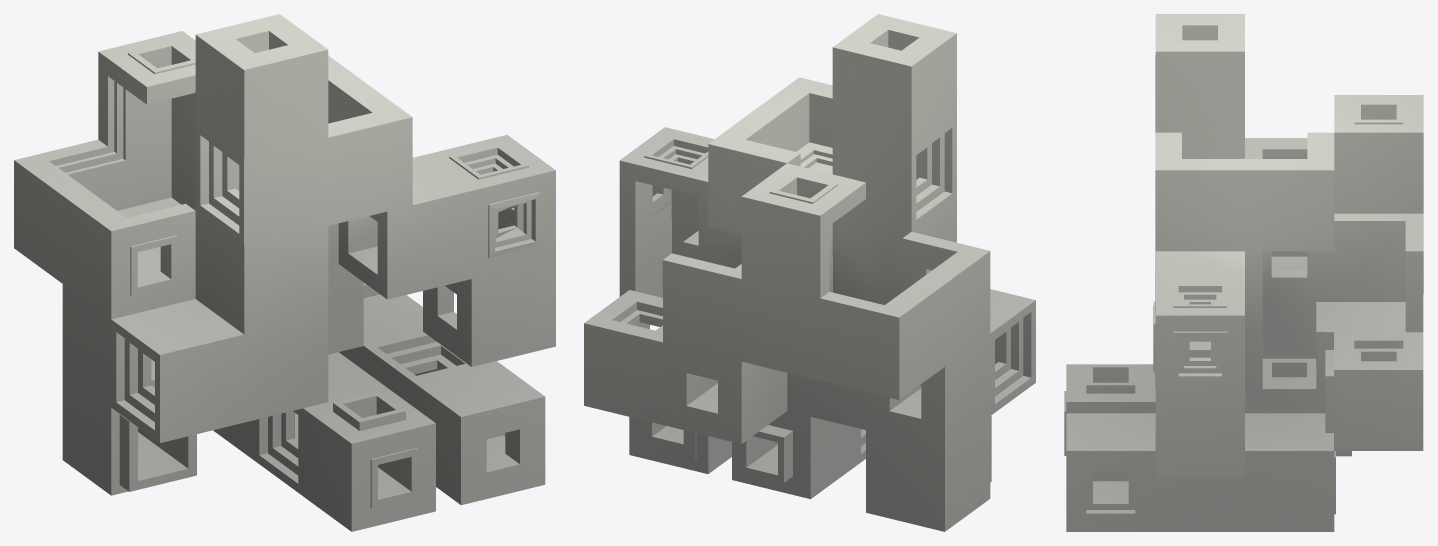
The picture shows the model from 3 angles, left to right: view 1: azimuth 30°, elevation 25°; view 2: azimuth 150°, elevation 25°; view 3: azimuth 270°, elevation 25°; orthographic projection. The views are drawn at different scales.
Visible parts, largest first — view 1: concrete_mod_007_concrete_0; view 2: concrete_mod_007_concrete_0; view 3: concrete_mod_007_concrete_0.
Boxes of the visible parts, box(x1,y1,x2,y2) form: concrete_mod_007_concrete_0: box(14, 14, 555, 531); concrete_mod_007_concrete_0: box(584, 14, 1035, 531); concrete_mod_007_concrete_0: box(1064, 14, 1423, 531).
Bounding box in the file's own units: 46.46 × 49.23 × 39.58.
Materials: 1 (1 with a texture image).
